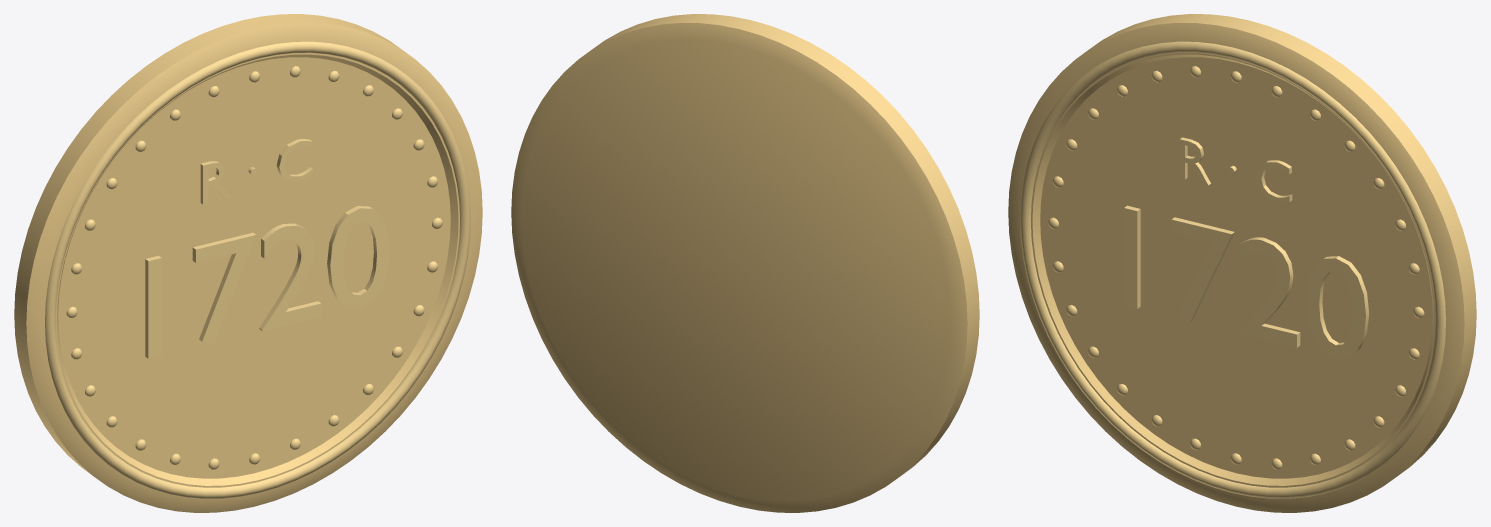
Rendered from louis.glb.
3 views of the same model, side by side, from view 1: azimuth 30°, elevation 25°; view 2: azimuth 150°, elevation 25°; view 3: azimuth 330°, elevation 25° (orthographic).
Visible parts, largest first — view 1: coin, rim, year, rc; view 2: coin; view 3: coin, rim, year, rc.
Boxes of the visible parts, <box> form: coin: <box>14,14,482,512</box>; rim: <box>45,41,470,498</box>; year: <box>145,206,390,358</box>; rc: <box>200,139,312,204</box>; coin: <box>511,14,979,512</box>; coin: <box>1008,14,1476,512</box>; rim: <box>1020,41,1445,498</box>; year: <box>1124,205,1369,358</box>; rc: <box>1179,137,1292,203</box>.
Bounding box in the file's own units: 1 × 1 × 0.079.
